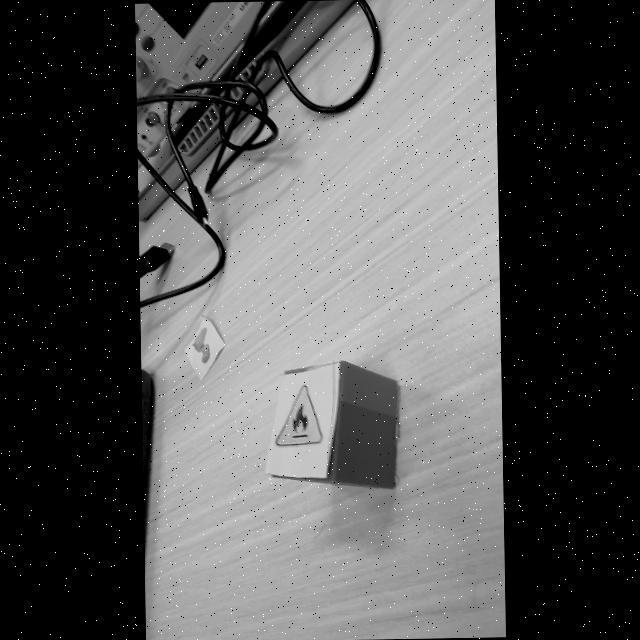Fire: (275, 385, 322, 446)
